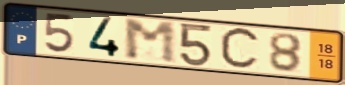4: (86, 15, 123, 60)
5: (177, 21, 214, 67), (43, 11, 77, 54)
8: (266, 32, 306, 74)
C: (218, 25, 263, 72)
M: (121, 18, 180, 65)
